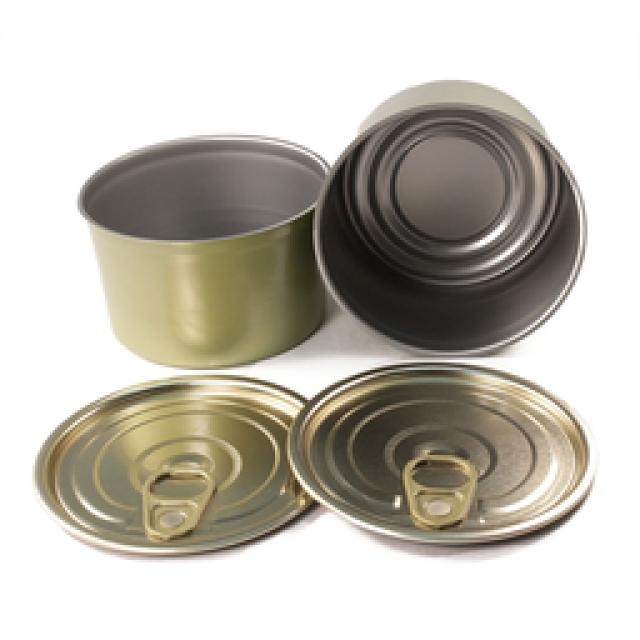alumunium: (80, 82, 585, 365), (35, 362, 590, 552)
